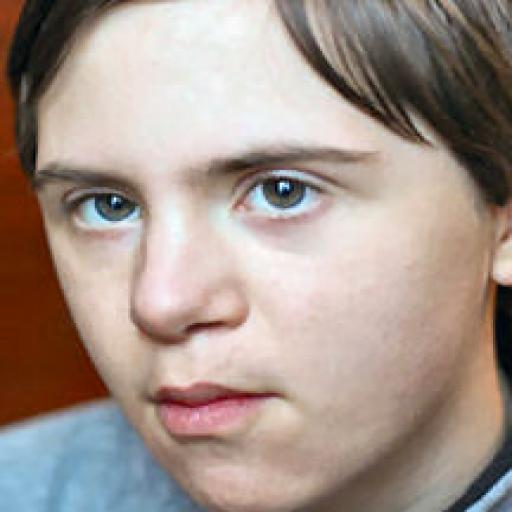Autism: (11, 6, 512, 496)
